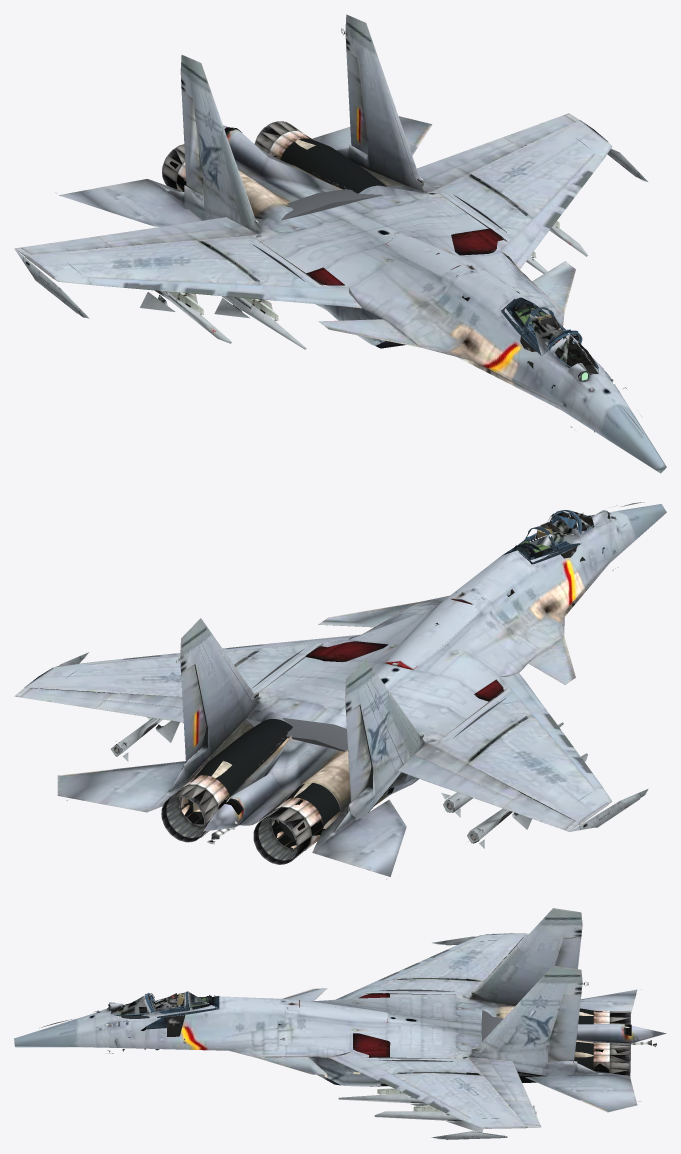
The picture shows the model from 3 angles, top to bottom: view 1: azimuth 30°, elevation 25°; view 2: azimuth 150°, elevation 25°; view 3: azimuth 270°, elevation 25°; orthographic projection. The views are drawn at different scales.
Visible parts, largest first — view 1: Object_17, Object_7, Object_54, Object_58, Object_53; view 2: Object_17, Object_7, Object_58, Object_54, Object_53; view 3: Object_17, Object_54, Object_7, Object_58, Object_53.
Boxes of the visible parts, x1,y1,x2,y2 form: Object_17: (15, 14, 666, 473); Object_7: (139, 225, 587, 349); Object_54: (501, 297, 598, 388); Object_58: (69, 43, 586, 285); Object_53: (14, 148, 647, 318); Object_17: (14, 502, 666, 879); Object_7: (111, 717, 587, 848); Object_58: (68, 642, 588, 800); Object_54: (502, 510, 604, 564); Object_53: (59, 652, 648, 831); Object_17: (14, 908, 666, 1128); Object_54: (111, 991, 219, 1036); Object_7: (338, 1094, 536, 1132); Object_58: (365, 940, 515, 1118); Object_53: (431, 936, 507, 1139).
Bounding box in the file's own units: 14.73 × 4.62 × 20.74.
Materials: 12 (12 with a texture image).
